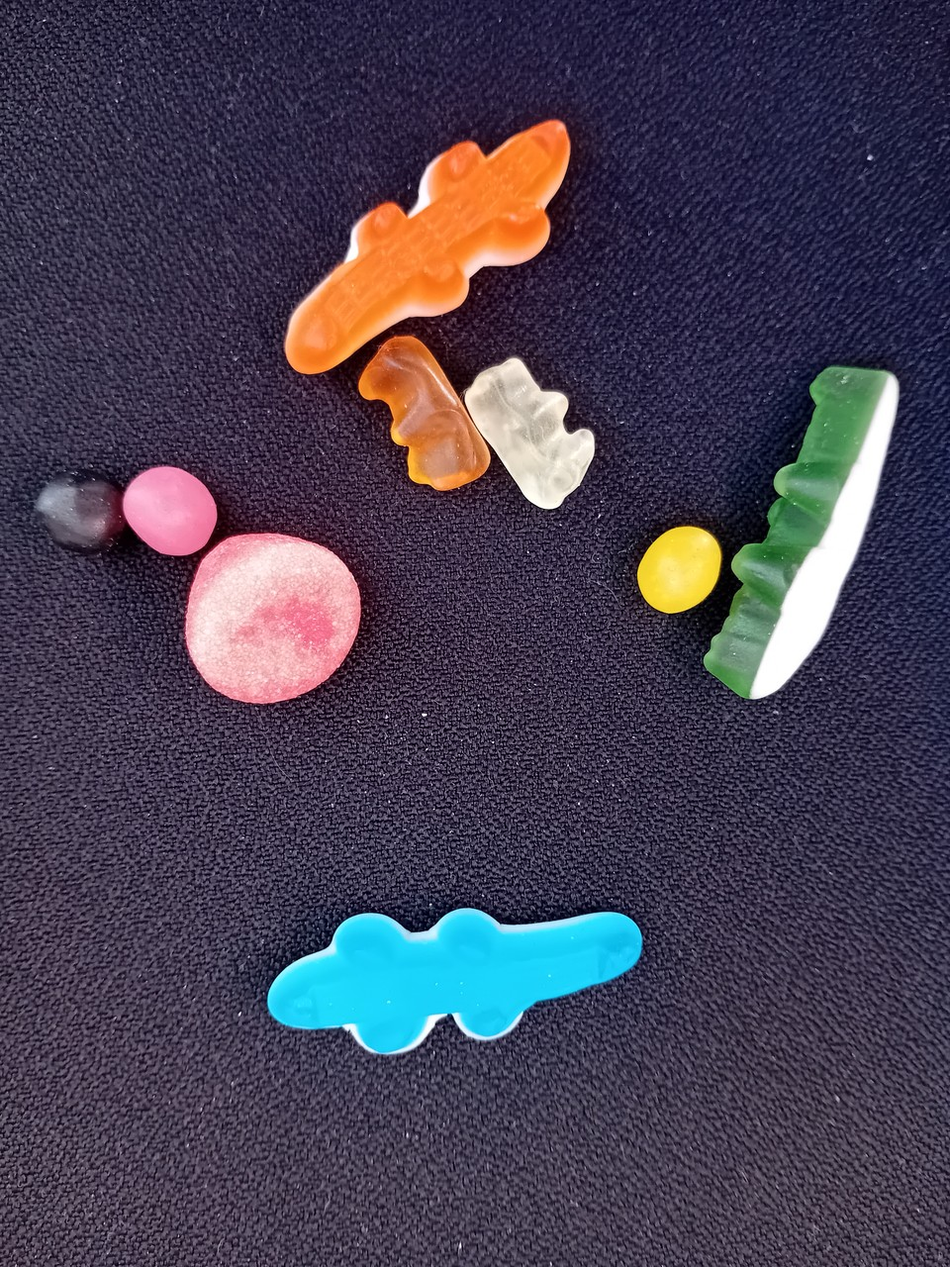crocodile_bleu: (257, 894, 650, 1064)
crocodile_orange: (279, 106, 583, 382)
crocodile_vert: (696, 356, 909, 709)
dragibus_jaune: (632, 520, 727, 621)
dragibus_noir: (25, 464, 128, 562)
dragibus_rose: (117, 459, 227, 562)
ourson_blanc: (457, 355, 601, 522)
ourson_orangeClair: (347, 329, 493, 499)
tagada_fraise: (173, 524, 374, 714)
